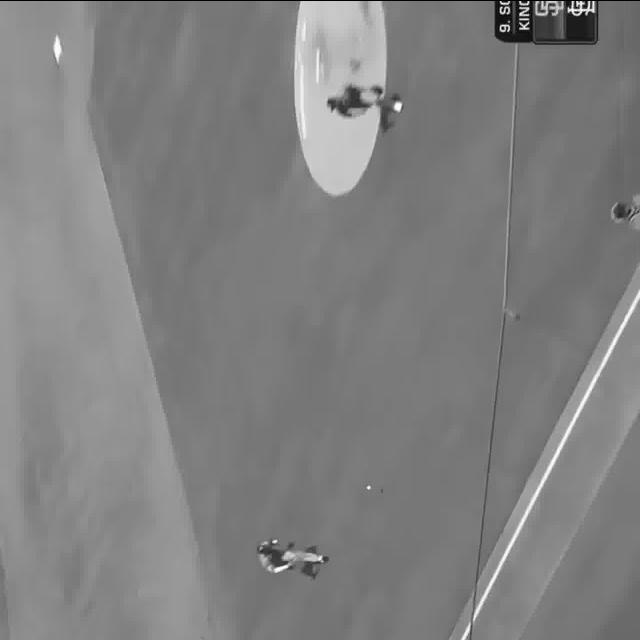base: (52, 35, 62, 63)
baseball: (367, 484, 372, 488)
shoe: (394, 100, 404, 111), (318, 552, 328, 560)
